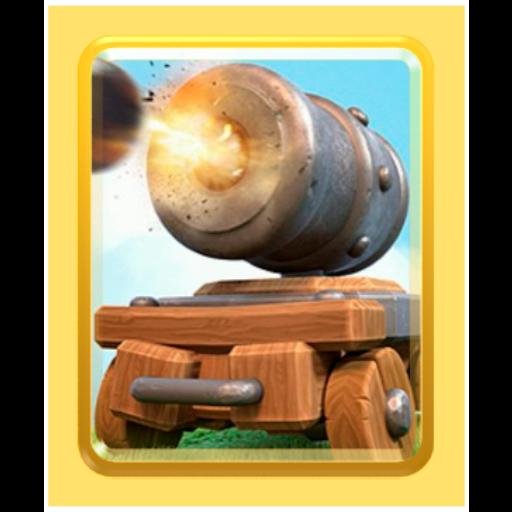cannon-cart: (85, 59, 419, 453)
